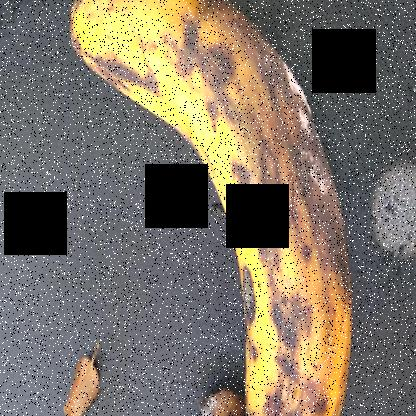overripe: (58, 1, 354, 415)
rotten: (193, 1, 366, 283)
